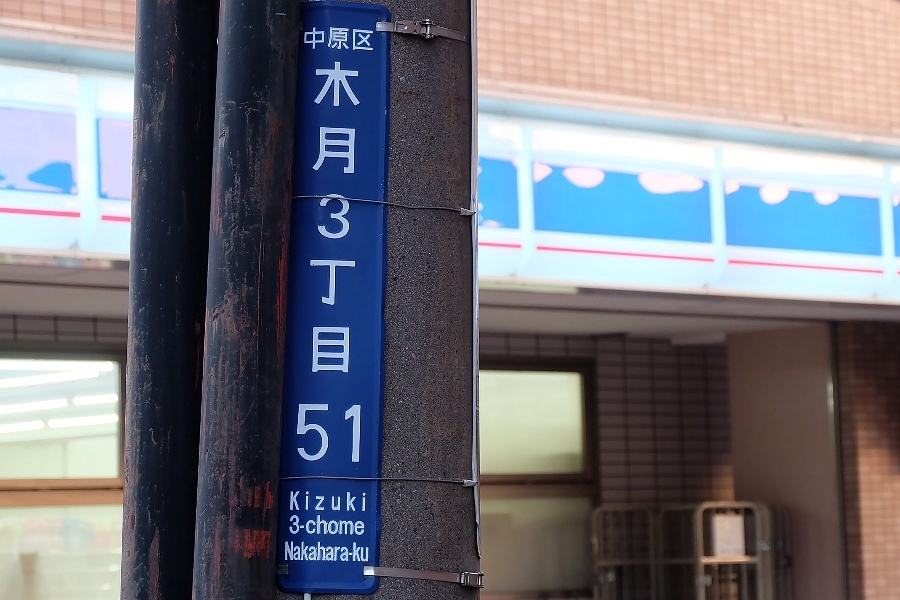text: (321, 61, 336, 465), (337, 61, 352, 465), (353, 61, 368, 465), (310, 61, 320, 465), (369, 61, 371, 465), (305, 26, 320, 52), (321, 26, 336, 52), (337, 26, 352, 52), (353, 26, 368, 52), (353, 541, 369, 562), (305, 514, 320, 536), (321, 514, 336, 536), (337, 514, 352, 536), (305, 491, 320, 512), (321, 491, 336, 512), (337, 491, 352, 512), (289, 541, 304, 562), (305, 541, 320, 562), (321, 541, 336, 562), (337, 541, 352, 562), (291, 514, 304, 536), (291, 491, 304, 512), (353, 514, 365, 536), (353, 491, 365, 512), (369, 26, 373, 52), (286, 541, 288, 562)
